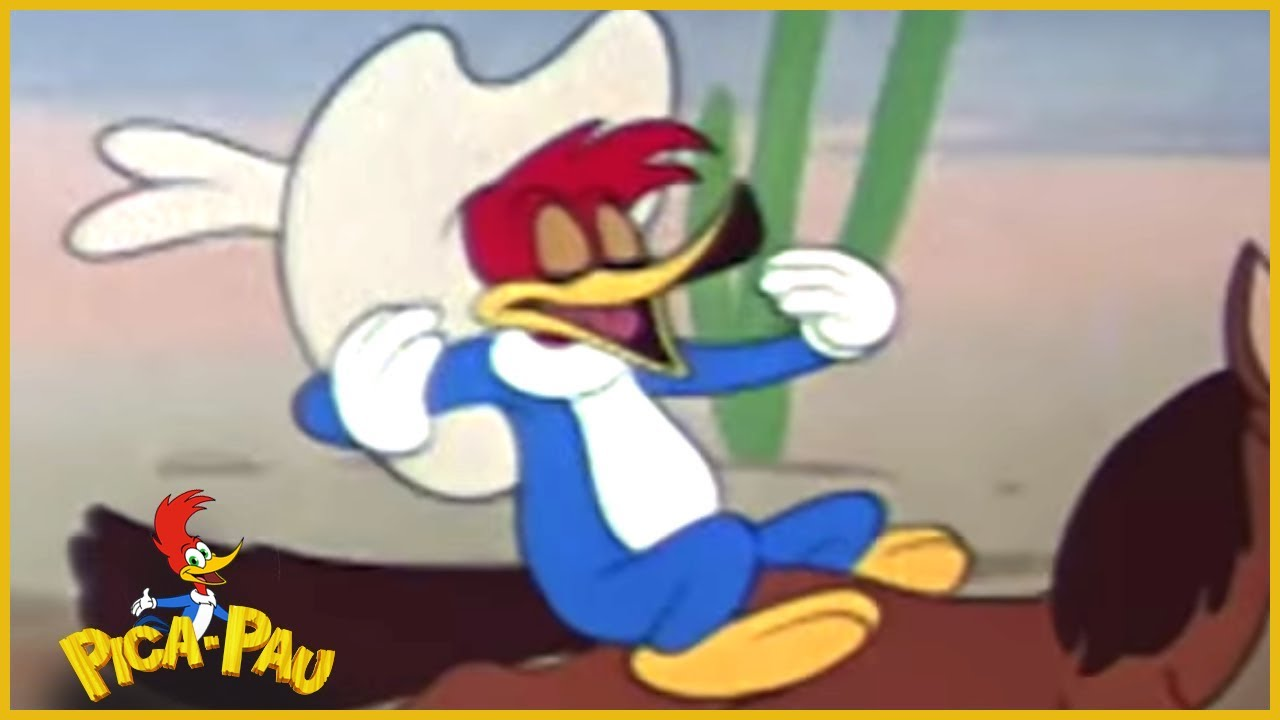picapau: (293, 69, 986, 702)
